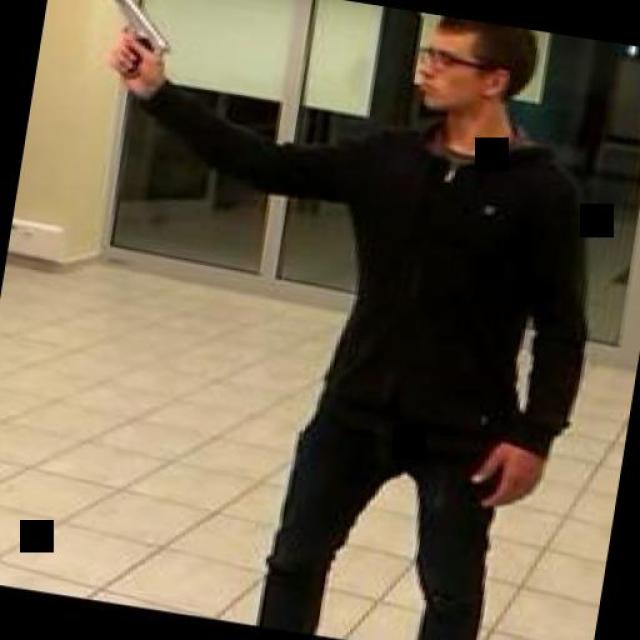gun: (86, 0, 182, 89)
